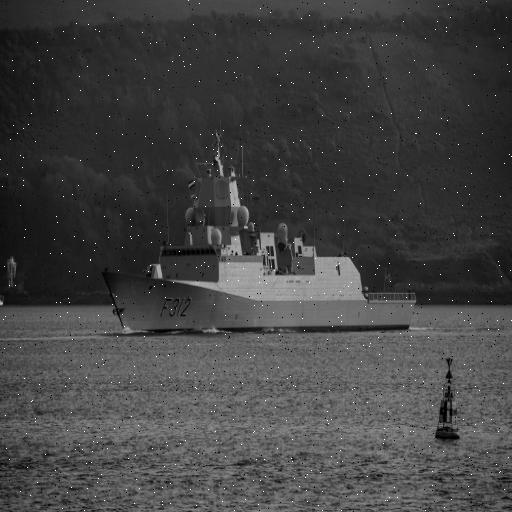Fragata: (101, 121, 419, 335)
